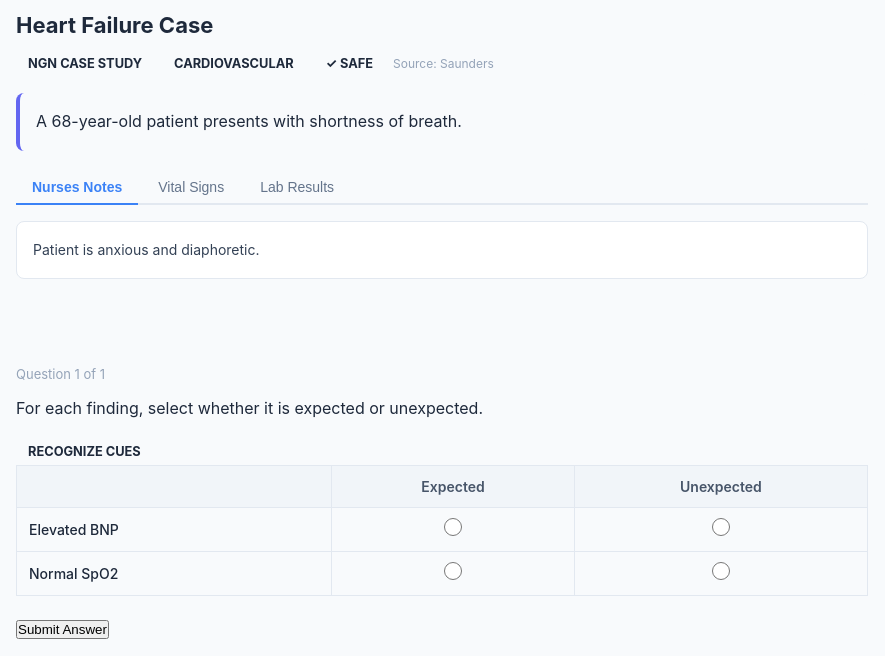
Test: NGNCaseStudyComponent › switches tab content on click
Click the button "Vital Signs". click: (191, 188)
box: [142,171,240,205]
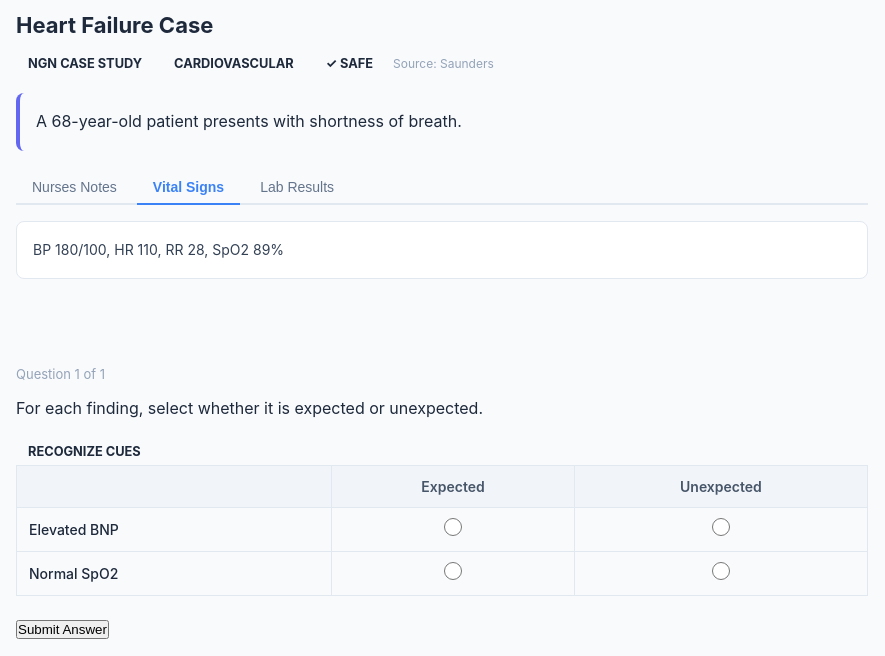
expect the text "BP 180/100, HR 110, RR 28, SpO2 89%" is shown: met, box [16,221,868,279]
Click the button "Lab Results". click: (297, 188)
box: [244,171,350,205]
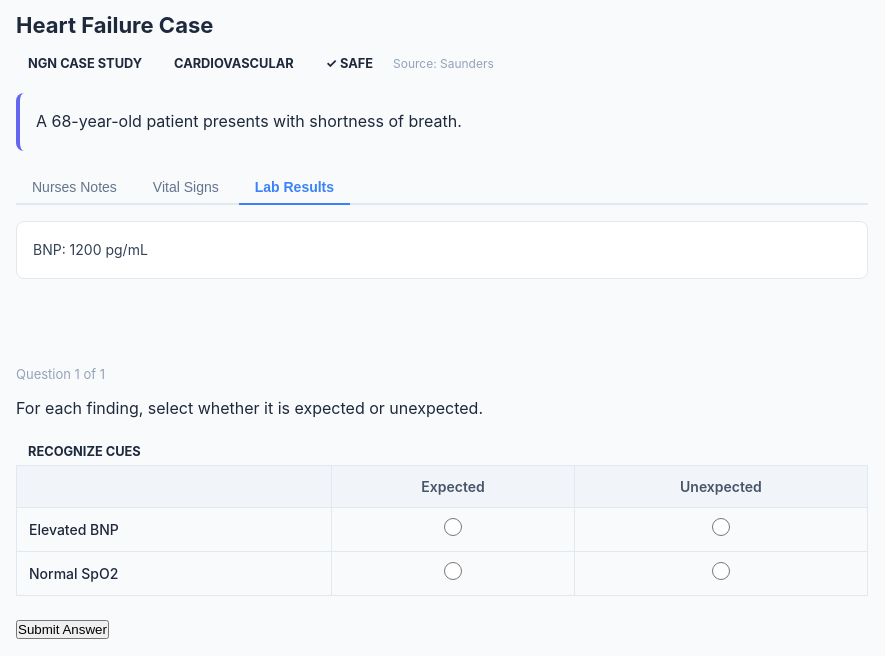
expect the text "BNP: 1200 pg/mL" is shown: met, box [16,221,868,279]
